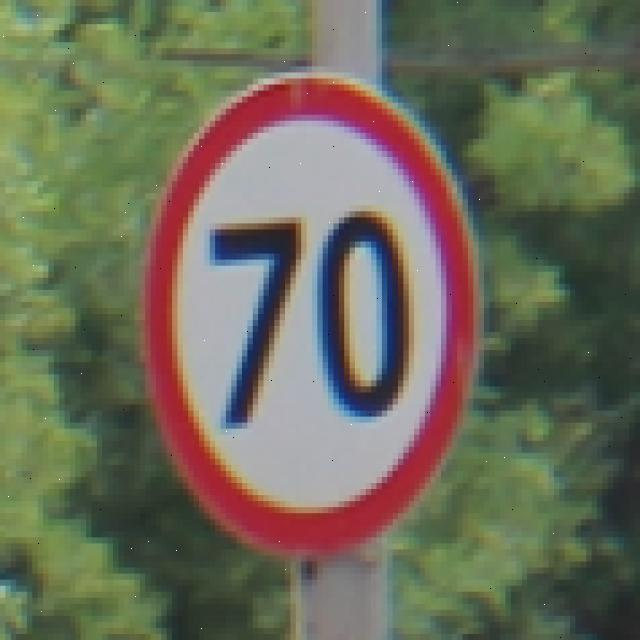speed limit 70: (142, 75, 481, 556)
